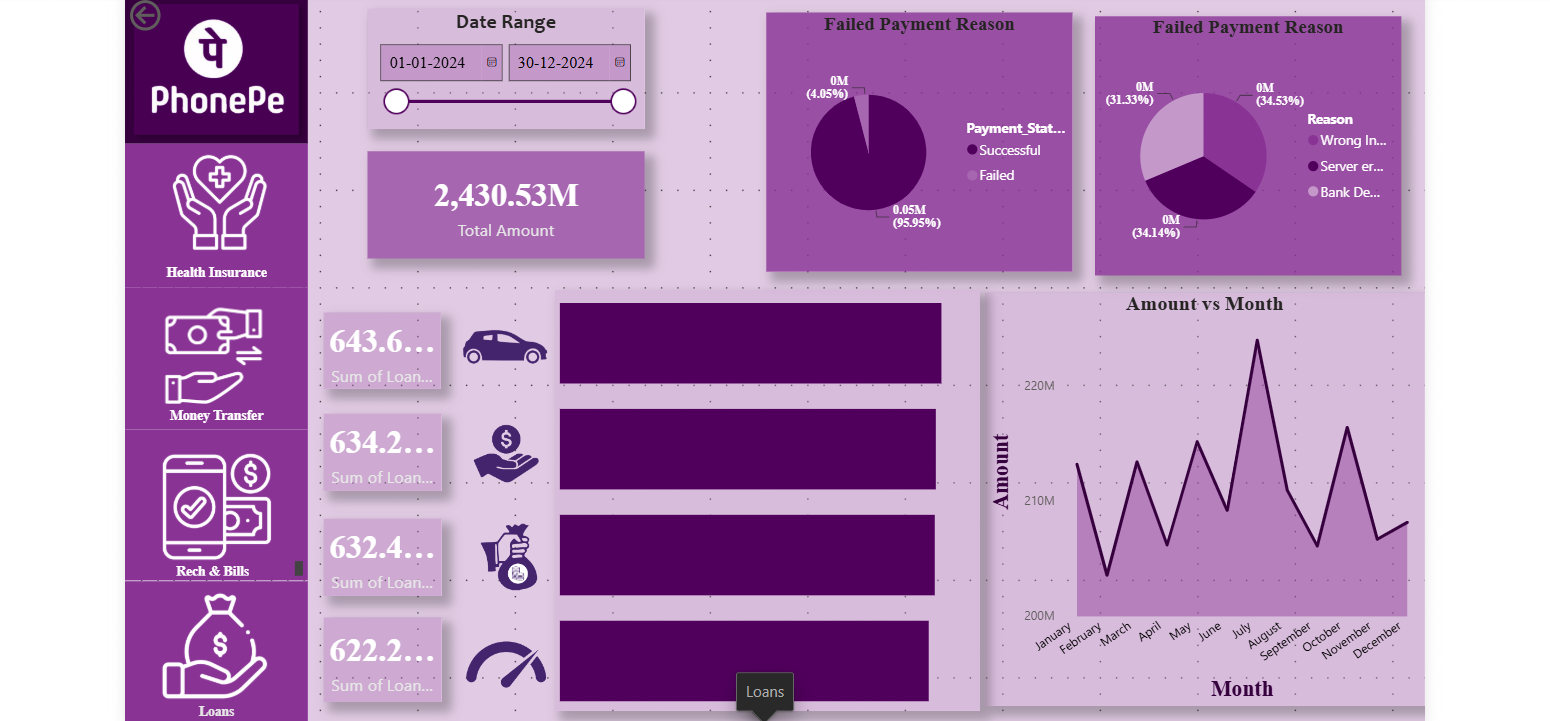

What the dashboard file says about the page in this screenshot:
{"tool":"powerbi","page":{"name":"Loans","canvas":[1280,720],"ordinal":4},"visuals":[{"type":"shape","box":[0,0,180,146.7],"z":0},{"type":"shape","box":[0,146.7,180,141.7],"z":1000},{"type":"shape","box":[0,288.3,180,140],"z":2000},{"type":"shape","box":[0,428.3,180,148.3],"z":3000},{"type":"shape","box":[0,576.7,180,143.3],"z":4000},{"type":"image","box":[10,8.3,161.7,130],"z":5000},{"type":"image","box":[18.3,148.3,150,110],"z":6000},{"type":"image","box":[15,303.3,145,105],"z":7000},{"type":"image","box":[13.3,443.3,153.3,121.7],"z":8000},{"type":"image","box":[16,581.6,148.5,114.1],"z":9000},{"type":"textbox","box":[0,258.9,180.4,29.4],"z":10000},{"type":"slicer","title":"Date Range","fields":{"Values":["Loans.Date"]},"box":[238.8,13.7,273.1,118],"z":11000},{"type":"pieChart","title":"Failed Payment Reason","fields":{"Category":["Loans.Reason"],"Y":["CountNonNull(Loans.Reason)"]},"box":[955.1,20.6,301.9,255.2],"z":12000},{"type":"card","fields":{"Values":["Sum(Loans.Loan_Amount)"]},"box":[238.8,153.7,273.1,105.7],"z":13000},{"type":"actionButton","box":[0,0,100,40],"z":14000},{"type":"areaChart","title":"Amount vs Month","fields":{"Category":["Loans.Date.Variation.Date Hierarchy.Month"],"Y":["Sum(Loans.Loan_Amount)"]},"box":[847.1,292.9,432.9,407.1],"z":15000},{"type":"textbox","box":[0,690.8,180.4,29.4],"z":16000},{"type":"textbox","box":[0,398.8,180.4,29.4],"z":17000},{"type":"textbox","box":[0,552.2,180.4,24.5],"z":18000},{"type":"pieChart","title":"Failed Payment Reason","fields":{"Category":["Loans.Payment_Status"],"Y":["CountNonNull(Loans.Payment_Status)"]},"box":[631.2,17.8,301.9,255.2],"z":19000},{"type":"clusteredBarChart","title":"Amount Per Month","fields":{"Category":["Loans.Loan_Type"],"Y":["Sum(Loans.Loan_Amount)"]},"box":[422.9,290,418.6,414.3],"z":20000},{"type":"card","fields":{"Values":["Sum(Loans.Loan_Amount)"]},"box":[196.2,312.9,115.3,75.5],"z":21000},{"type":"card","fields":{"Values":["Sum(Loans.Loan_Amount)"]},"box":[195.7,412.9,115.7,75.7],"z":22000},{"type":"card","fields":{"Values":["Sum(Loans.Loan_Amount)"]},"box":[195.7,515.7,115.7,75.7],"z":23000},{"type":"card","fields":{"Values":["Sum(Loans.Loan_Amount)"]},"box":[195.7,612.9,115.7,82.9],"z":24000},{"type":"image","box":[331.1,313,89,65.4],"z":25000},{"type":"image","box":[331.1,418.8,89,65.4],"z":26000},{"type":"image","box":[333.9,520.3,89,65.4],"z":27000},{"type":"image","box":[331.1,626.1,89,65.4],"z":28000}]}

Visuals, with their boxes on the page's 1280x720 design canvas (x1, y1, x2, y2). These are canvas units, not pixel positions in the 1550x721 screenshot, which may show the page scaled, cropped or inside an application window:
shape: 0:0:180:147
shape: 0:147:180:288
shape: 0:288:180:428
shape: 0:428:180:577
shape: 0:577:180:720
image: 10:8:172:138
image: 18:148:168:258
image: 15:303:160:408
image: 13:443:167:565
image: 16:582:164:696
textbox: 0:259:180:288
"Date Range" slicer: 239:14:512:132
"Failed Payment Reason" pieChart: 955:21:1257:276
card - Sum(Loans.Loan_Amount): 239:154:512:259
actionButton: 0:0:100:40
"Amount vs Month" areaChart: 847:293:1280:700
textbox: 0:691:180:720
textbox: 0:399:180:428
textbox: 0:552:180:577
"Failed Payment Reason" pieChart: 631:18:933:273
"Amount Per Month" clusteredBarChart: 423:290:842:704
card - Sum(Loans.Loan_Amount): 196:313:312:388
card - Sum(Loans.Loan_Amount): 196:413:311:489
card - Sum(Loans.Loan_Amount): 196:516:311:591
card - Sum(Loans.Loan_Amount): 196:613:311:696
image: 331:313:420:378
image: 331:419:420:484
image: 334:520:423:586
image: 331:626:420:692
